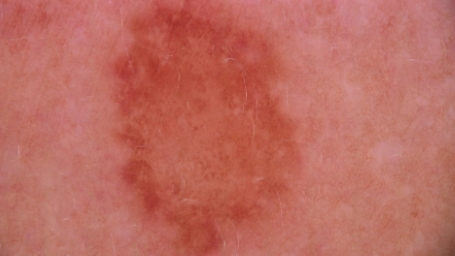seborrheic keratosis: (101, 4, 336, 256)
